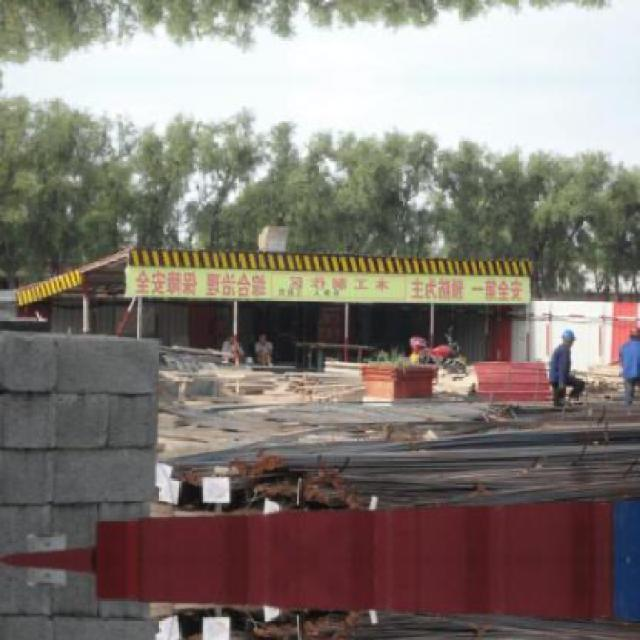sin casco: (546, 316, 591, 354)
